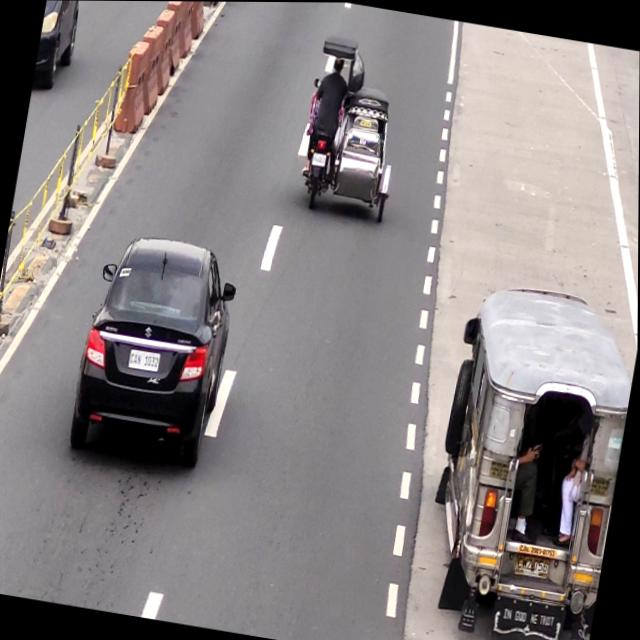Car: (69, 233, 243, 469)
Jeep: (417, 275, 638, 640)
License-Plate: (513, 552, 553, 584), (125, 347, 163, 373), (311, 151, 328, 168)
Tricycle: (297, 35, 413, 218)
